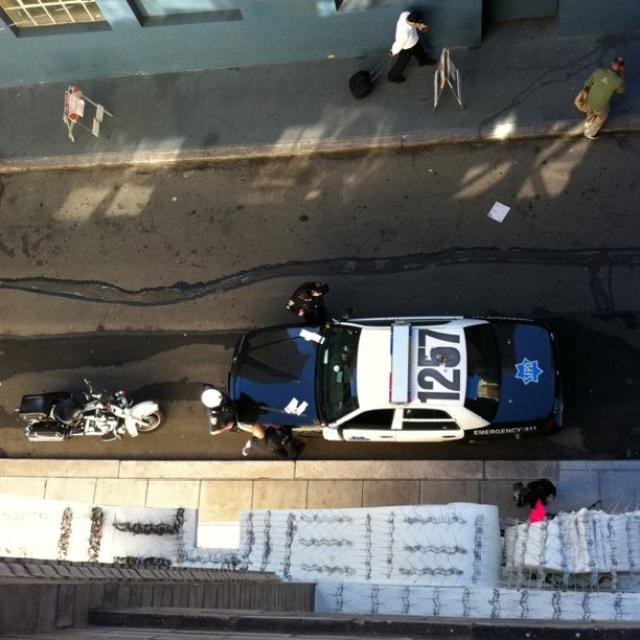motor: (14, 379, 165, 443)
